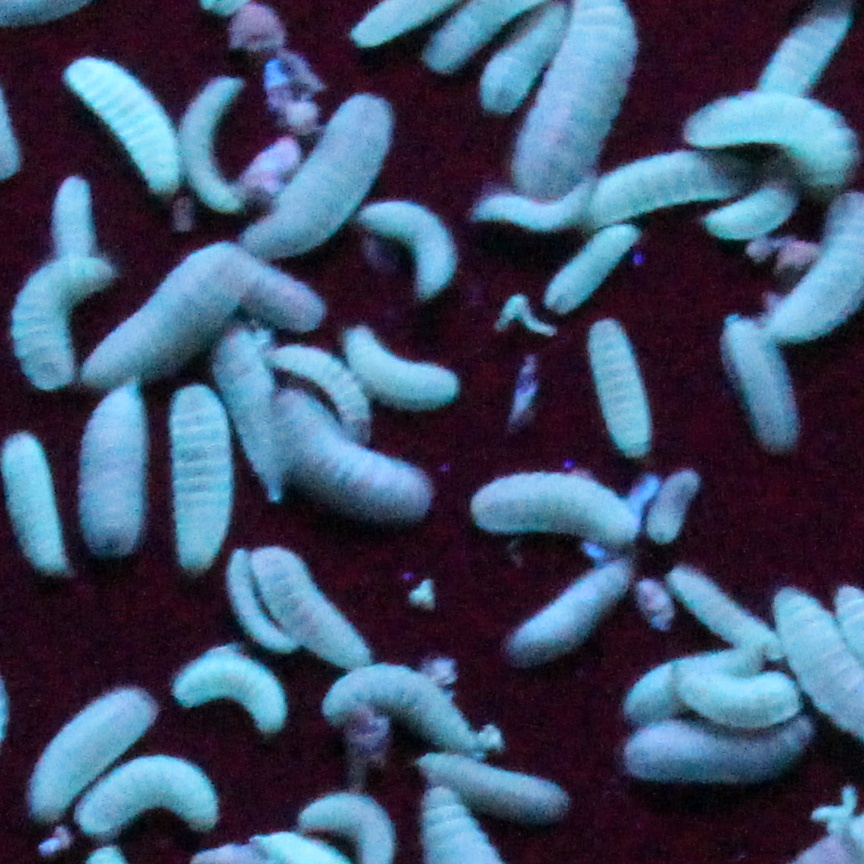larve: (81, 245, 248, 393), (256, 88, 397, 249), (275, 395, 436, 521), (30, 687, 156, 824), (58, 53, 181, 183), (687, 97, 850, 193), (321, 660, 483, 755), (9, 251, 113, 389), (254, 552, 370, 665), (73, 753, 232, 834), (587, 148, 746, 225), (515, 559, 630, 663), (473, 476, 639, 546), (169, 391, 232, 571), (81, 396, 150, 559), (271, 348, 384, 441), (177, 649, 295, 736), (629, 645, 764, 721), (419, 753, 575, 818), (622, 726, 811, 779), (481, 3, 571, 114), (670, 566, 774, 656), (721, 317, 790, 450), (1, 434, 64, 579), (344, 334, 464, 410), (361, 212, 459, 301), (590, 324, 652, 455), (677, 665, 798, 729), (760, 4, 846, 93), (473, 172, 599, 228), (191, 73, 240, 216), (550, 234, 642, 310), (256, 269, 330, 328), (704, 195, 794, 243), (650, 469, 697, 549)
